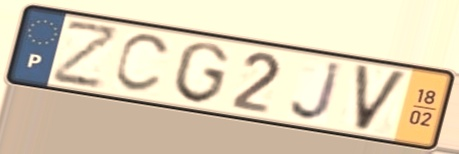2: (228, 51, 284, 117)
C: (110, 32, 175, 96)
G: (170, 40, 233, 107)
J: (287, 59, 346, 124)
V: (351, 61, 412, 135)
Z: (49, 20, 124, 91)
